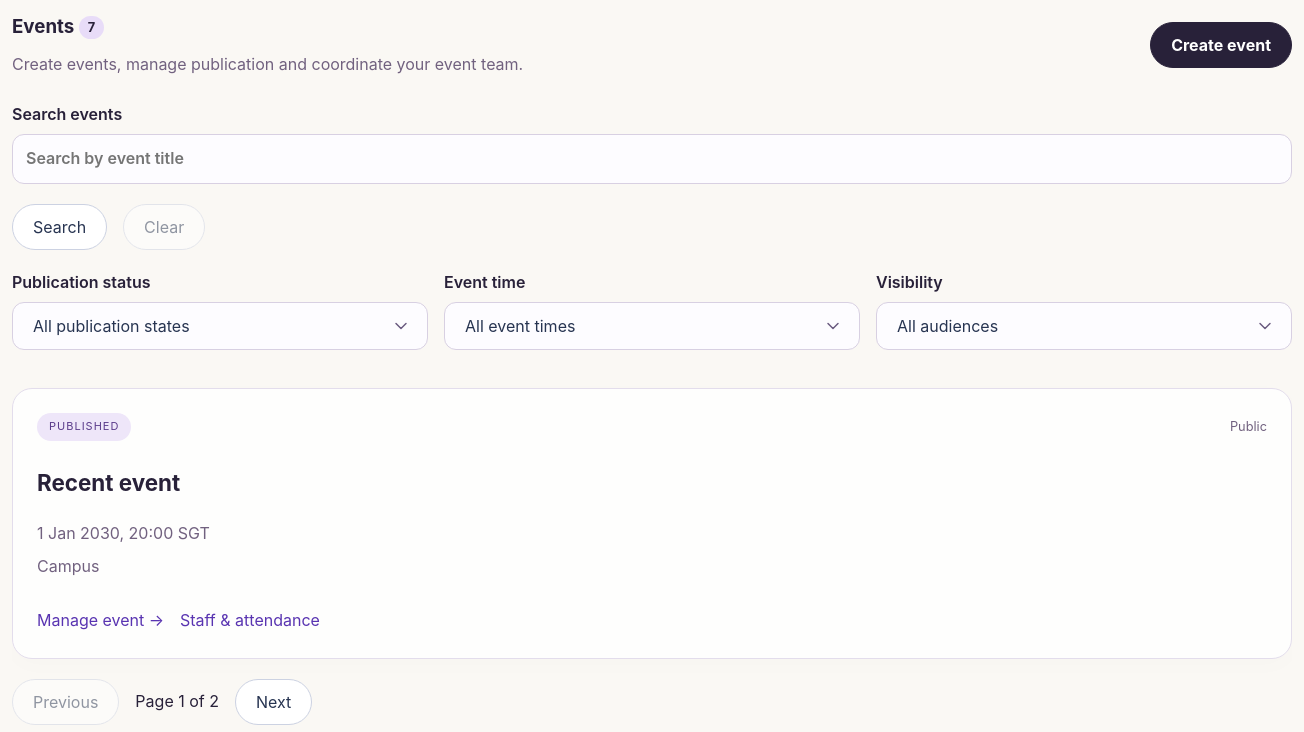
searches all organization events and resets the page
The image size is (1304, 732).
Check: the link "Recent event" is shown, box [37,469,180,496]
Click the button "Next" at (274, 702), box [235,678,312,724]
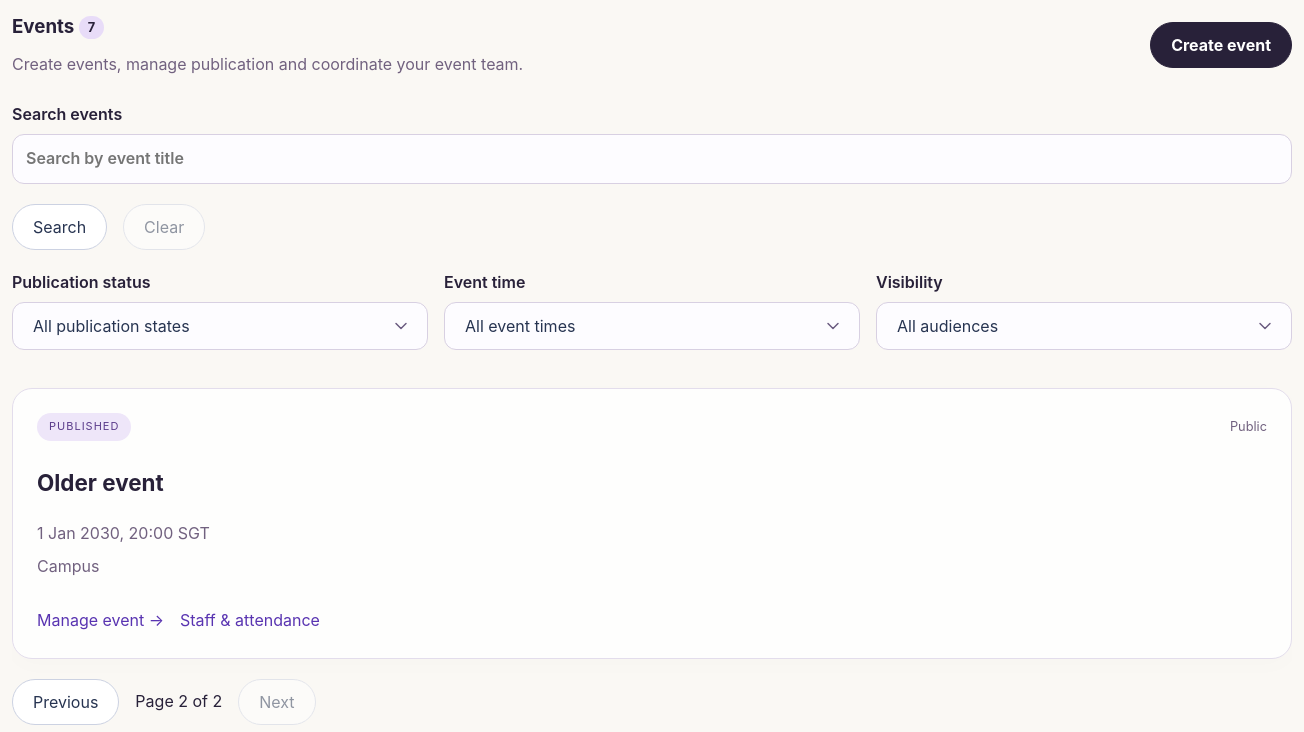
Check: the link "Older event" is shown, box [37,469,164,496]
Type "A & B" into the search field at (652, 159), box [12,134,1292,184]
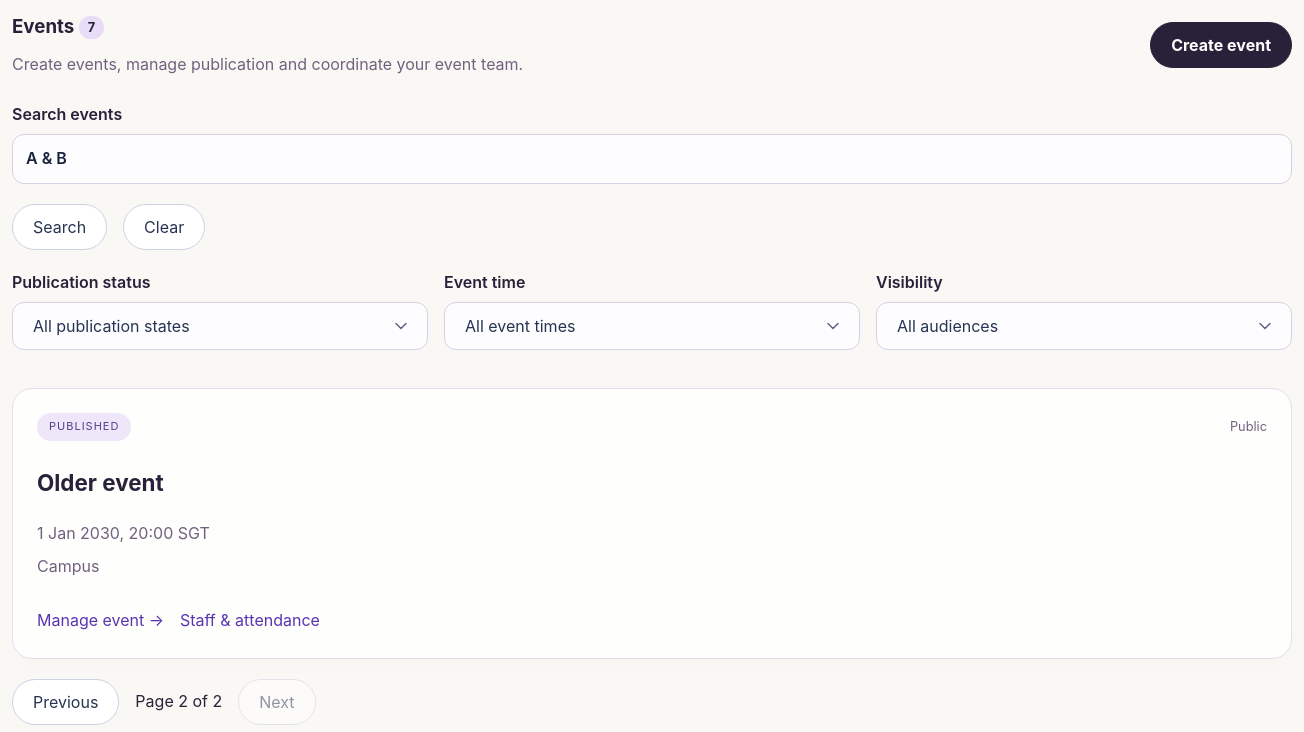
Submit the form, box [12,102,1292,250]
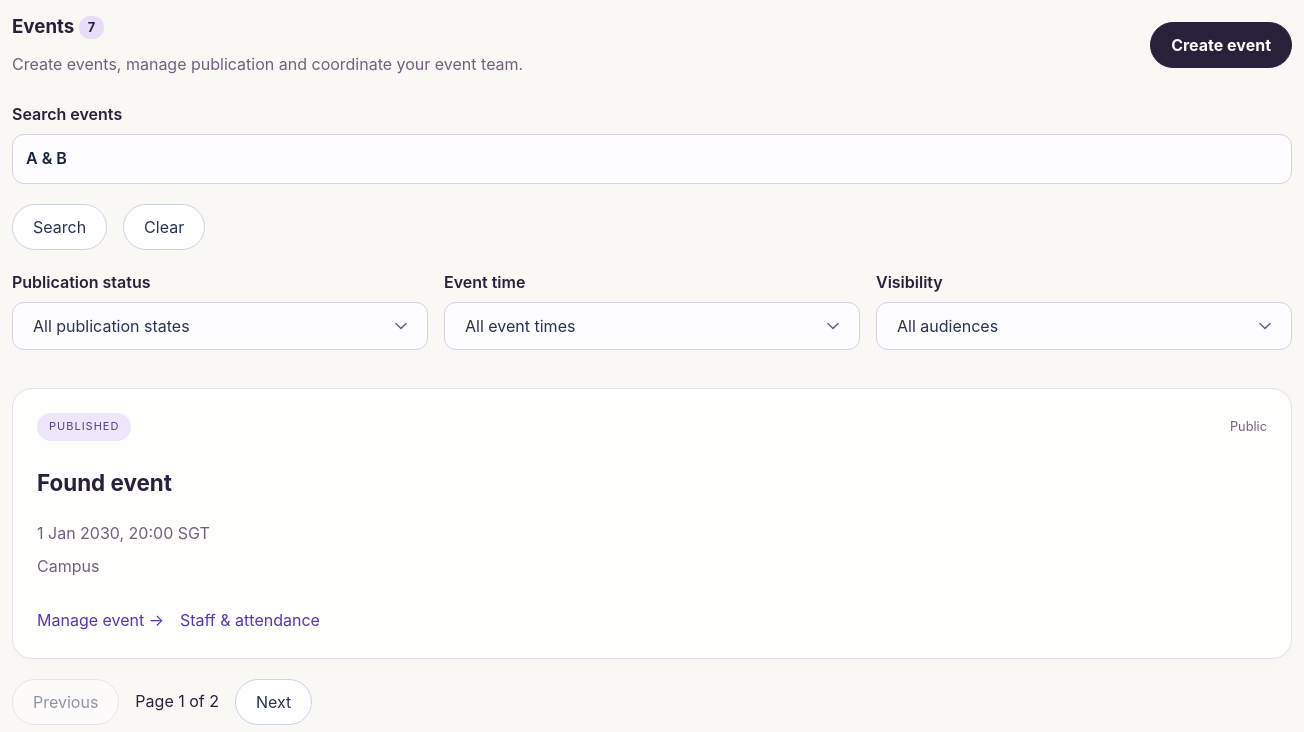
Check: the link "Found event" is shown, box [37,469,172,496]
